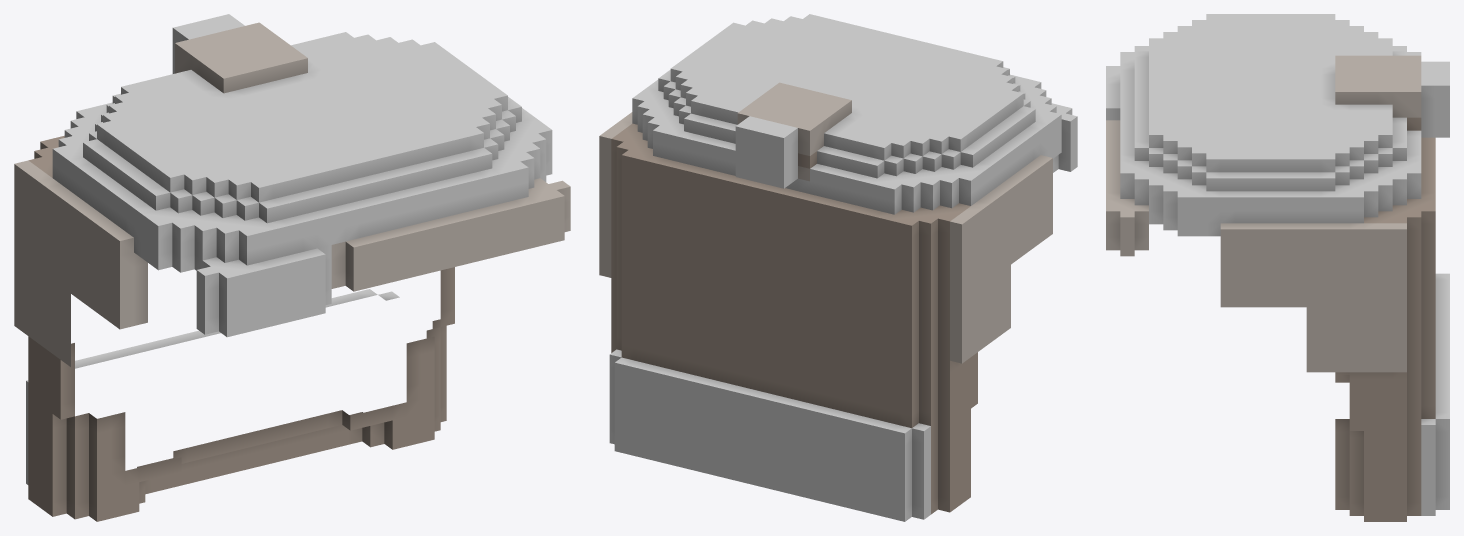
The model's file is hair_f_half_up.glb.
3 views of the same model, side by side, from view 1: azimuth 30°, elevation 25°; view 2: azimuth 150°, elevation 25°; view 3: azimuth 270°, elevation 25° (orthographic). The views are drawn at different scales.
Parts seen in each view (by area): view 1: VoxelVisual; view 2: VoxelVisual; view 3: VoxelVisual.
Part boxes in pixels (bbox=[...]): VoxelVisual: bbox=[14, 14, 570, 521]; VoxelVisual: bbox=[599, 14, 1077, 521]; VoxelVisual: bbox=[1106, 14, 1449, 521].
Size of what is drawn, in the model's own units: 1.88 by 1.75 by 1.5.
